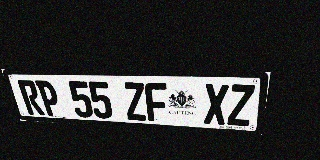5: (87, 81, 114, 119), (68, 81, 95, 118)
F: (144, 83, 168, 122)
P: (35, 80, 63, 116)
R: (17, 80, 45, 115)
X: (204, 84, 229, 125)
Z: (227, 84, 255, 126), (122, 82, 147, 121)
